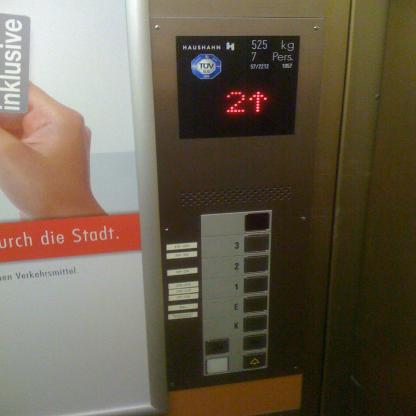1: (230, 272, 272, 296)
2: (230, 252, 272, 276)
3: (230, 231, 272, 256)
E: (229, 293, 271, 315)
K: (228, 312, 270, 335)
alarm: (242, 352, 267, 370)
blur: (241, 332, 268, 352), (204, 338, 230, 356)
empty: (229, 209, 273, 235), (204, 356, 230, 374)
led: (171, 31, 302, 140)
